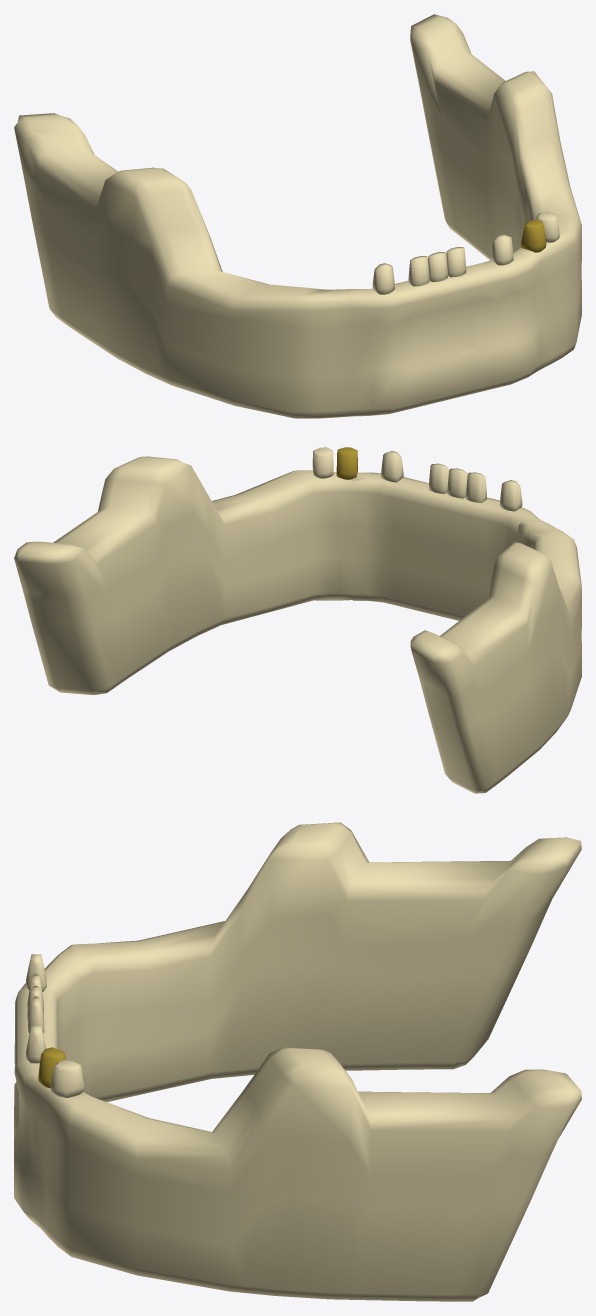
Rendered from jawbone.fbx.
3 views of the same model, one above another, from view 1: azimuth 30°, elevation 25°; view 2: azimuth 150°, elevation 25°; view 3: azimuth 270°, elevation 25° (orthographic). The views are drawn at different scales.
Visible parts, largest first — view 1: Jawbone; view 2: Jawbone; view 3: Jawbone.
Part boxes in pixels (left/top/right/bottom): Jawbone: left=14, top=14, right=581, bottom=418; Jawbone: left=14, top=447, right=581, bottom=793; Jawbone: left=14, top=822, right=581, bottom=1301.
Size of the model in its own units: 62.03 by 56.62 by 25.44.
